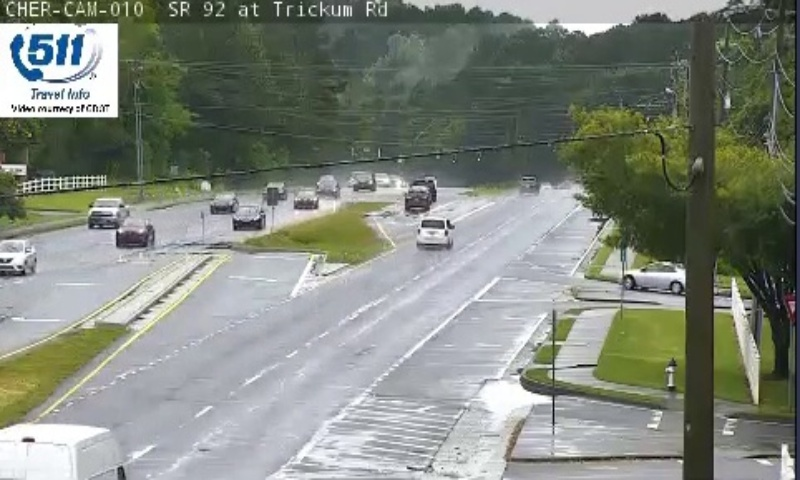car: (416, 218, 454, 249)
